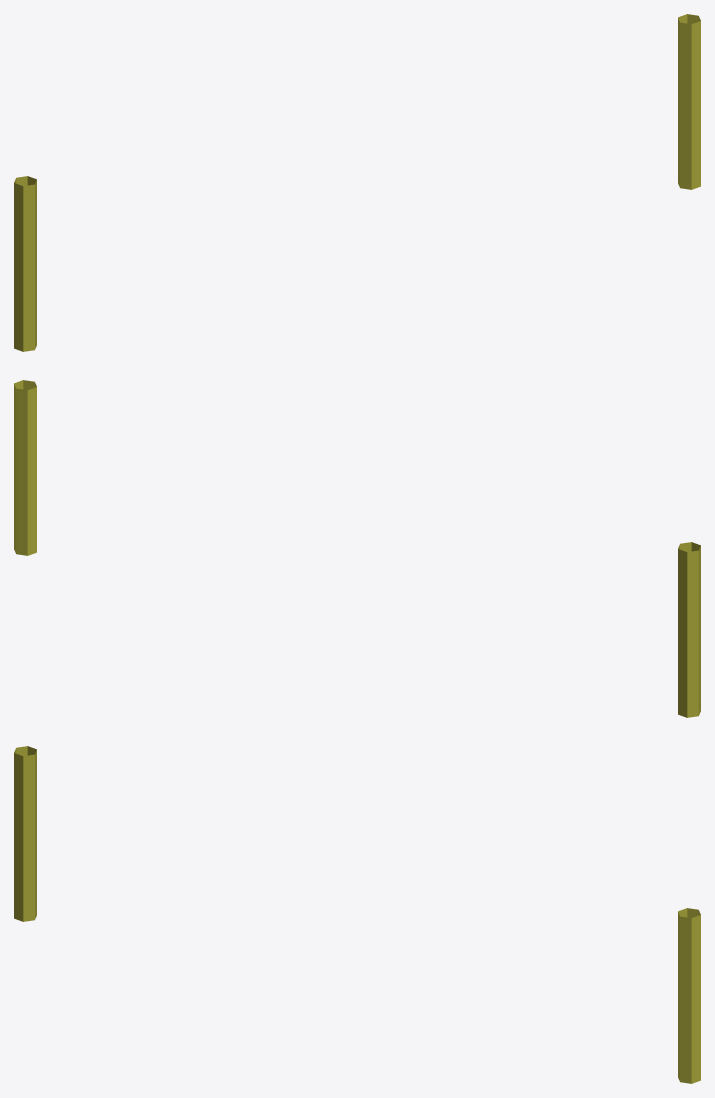
The model's file is FacilityPillar_01_SM_Low.fbx.
The picture shows the model from 3 angles, top to bottom: view 1: azimuth 30°, elevation 25°; view 2: azimuth 150°, elevation 25°; view 3: azimuth 330°, elevation 25°; orthographic projection.
Visible parts, largest first — view 1: facility_pillar_01_geo; view 2: facility_pillar_01_geo; view 3: facility_pillar_01_geo.
Part boxes in pixels (<box>): facility_pillar_01_geo: <box>14,14,700,351</box>; facility_pillar_01_geo: <box>14,380,700,717</box>; facility_pillar_01_geo: <box>14,746,700,1083</box>.
Size of the model in its own units: 1996 by 461 by 58.34.
